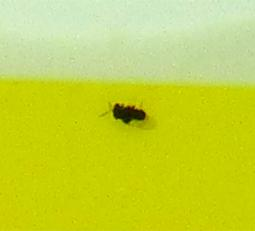Brachycera: (100, 100, 155, 131)
